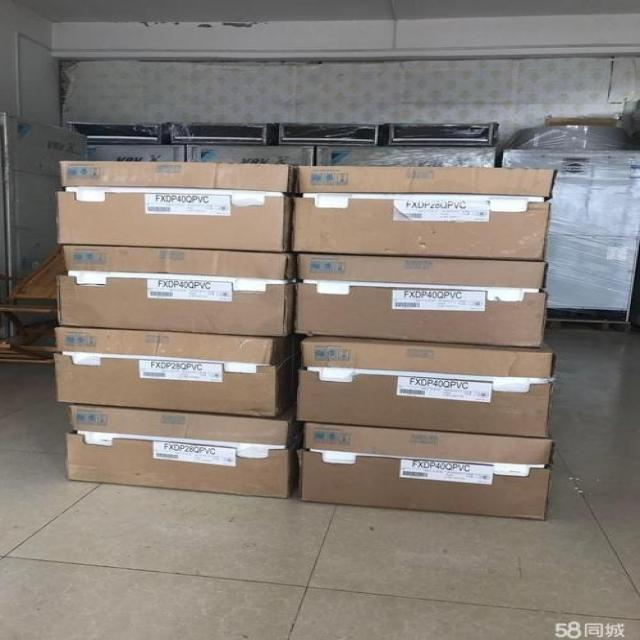box: (296, 336, 557, 438), (297, 421, 556, 520), (291, 166, 558, 260), (292, 253, 549, 347), (54, 326, 307, 418), (67, 402, 303, 499), (58, 245, 296, 338), (55, 161, 294, 253)
